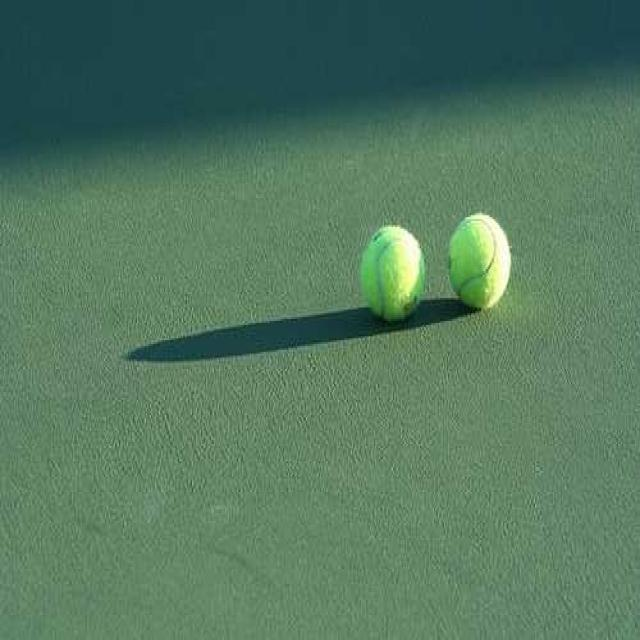Tennis_Ball: (358, 227, 428, 323), (450, 211, 508, 312)
